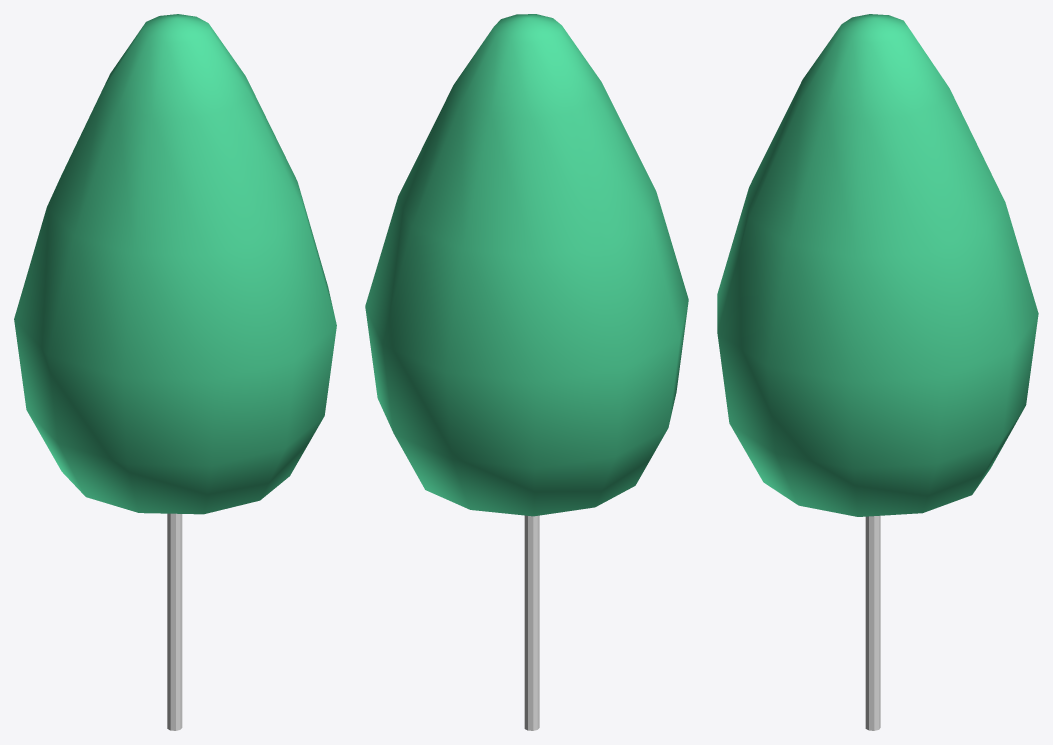
File: 020_Candy_Tree_012.fbx
3 renders of one model, left to right at view 1: azimuth 30°, elevation 25°; view 2: azimuth 150°, elevation 25°; view 3: azimuth 270°, elevation 25°, orthographic.
Parts seen in each view (by area): view 1: Sphere.050, Cylinder.020; view 2: Sphere.050, Cylinder.020; view 3: Sphere.050, Cylinder.020.
Part boxes in pixels (x1,y1,x2,y2): Sphere.050: [14, 14, 336, 514]; Cylinder.020: [167, 513, 182, 730]; Sphere.050: [365, 14, 688, 516]; Cylinder.020: [524, 515, 539, 730]; Sphere.050: [717, 14, 1038, 516]; Cylinder.020: [865, 515, 880, 730].
Size of the model in its own units: 119 by 287 by 118.
